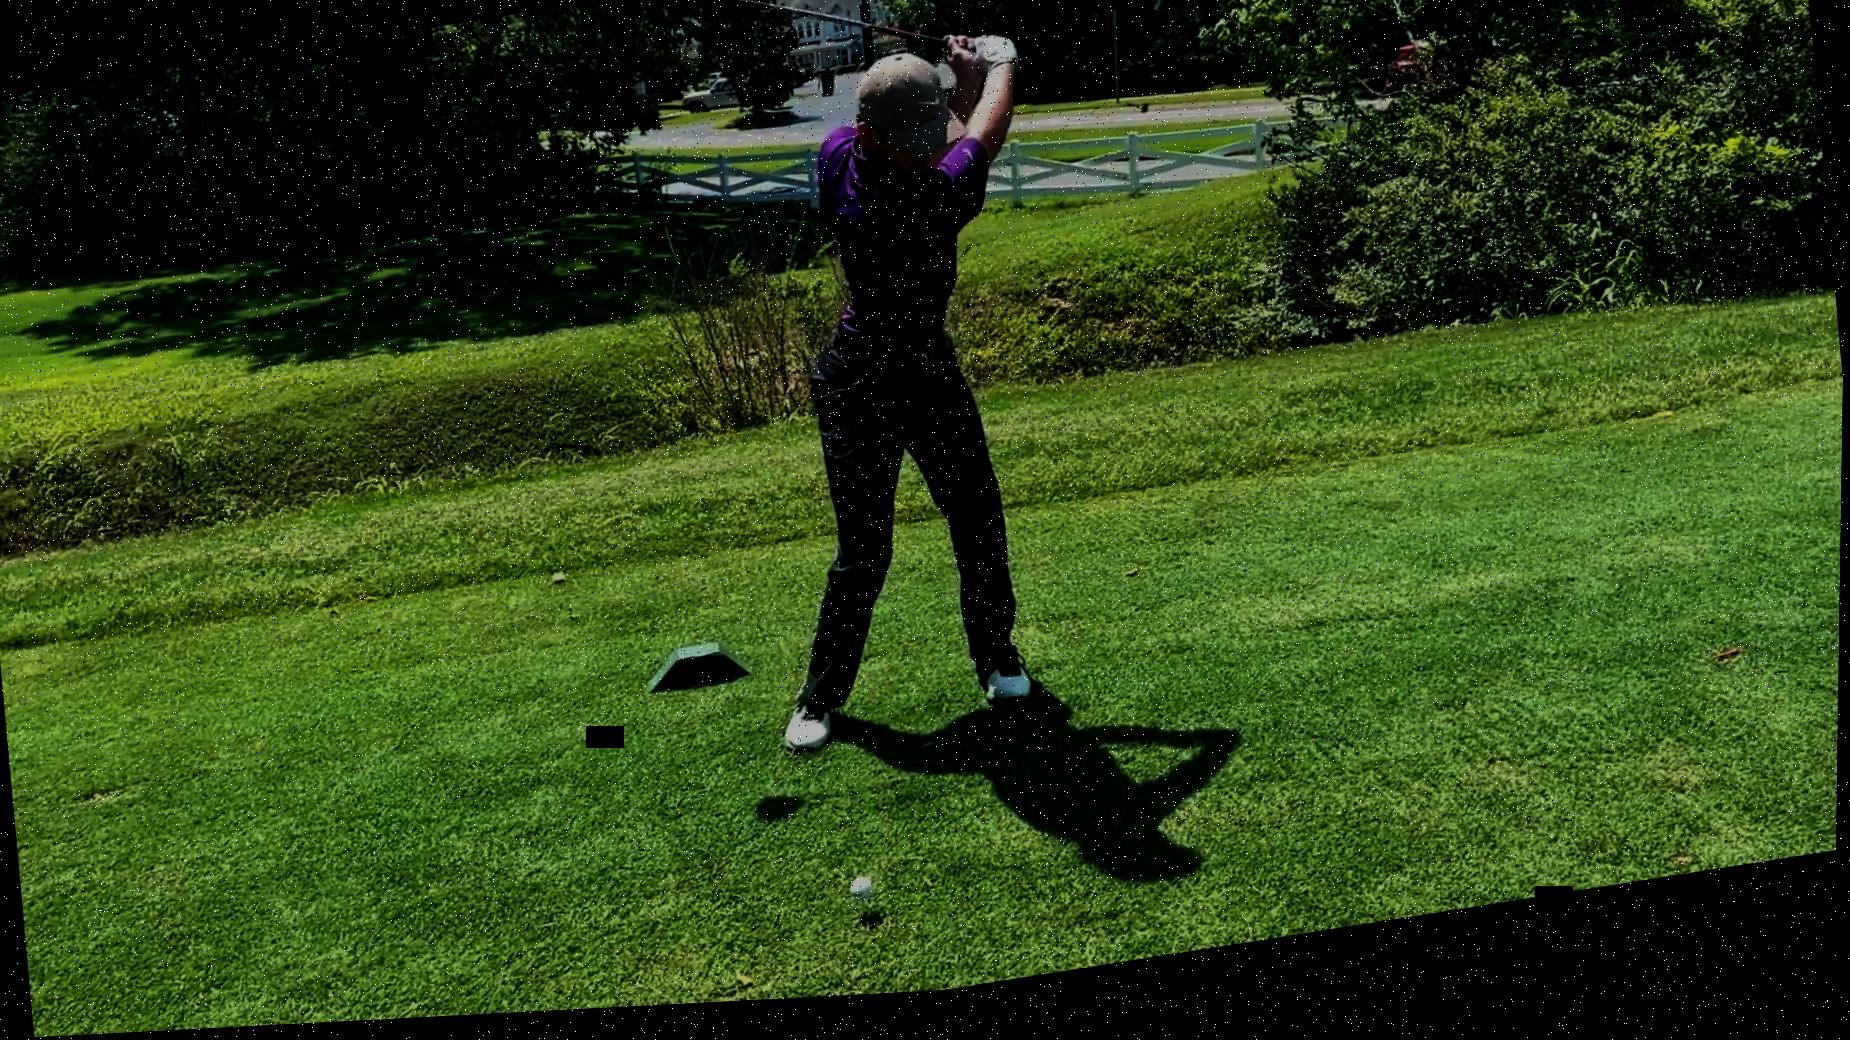GolfBall: (850, 881, 879, 916)
